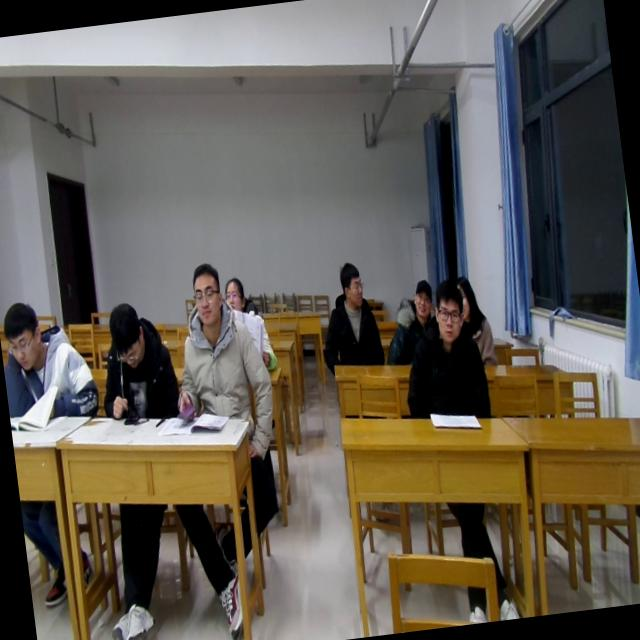bow: (0, 291, 102, 429)
down: (102, 294, 150, 368), (0, 296, 44, 371)
lookup: (426, 279, 468, 348), (183, 256, 224, 326), (405, 275, 436, 322), (218, 274, 247, 316)
sit: (157, 254, 276, 425), (391, 275, 496, 424), (90, 296, 185, 427), (312, 258, 388, 374), (222, 270, 280, 378), (377, 278, 442, 364), (451, 270, 500, 372)
